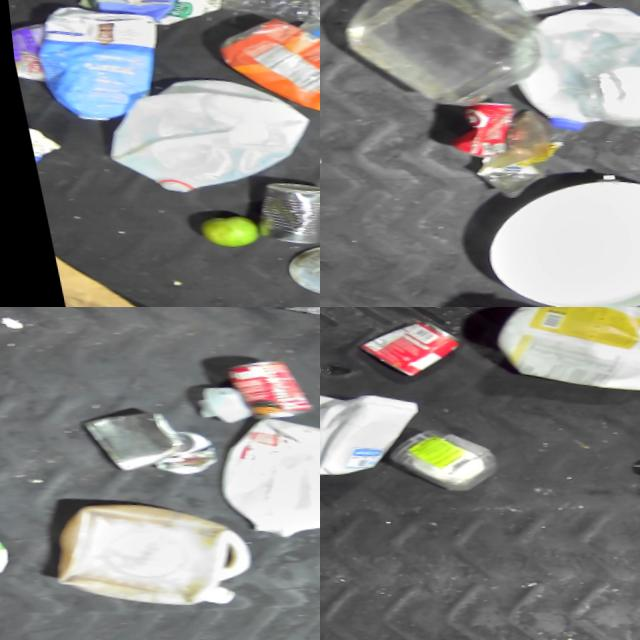can: (72, 395, 180, 471), (356, 307, 461, 383), (236, 165, 320, 250), (219, 343, 313, 416), (433, 87, 515, 155), (138, 416, 214, 472)
milk_jug: (97, 59, 318, 206), (28, 478, 252, 615), (488, 0, 640, 134), (197, 393, 320, 538)
non_white_jug: (15, 0, 162, 130), (197, 0, 320, 132)
plastic_bottle: (192, 0, 320, 28)
